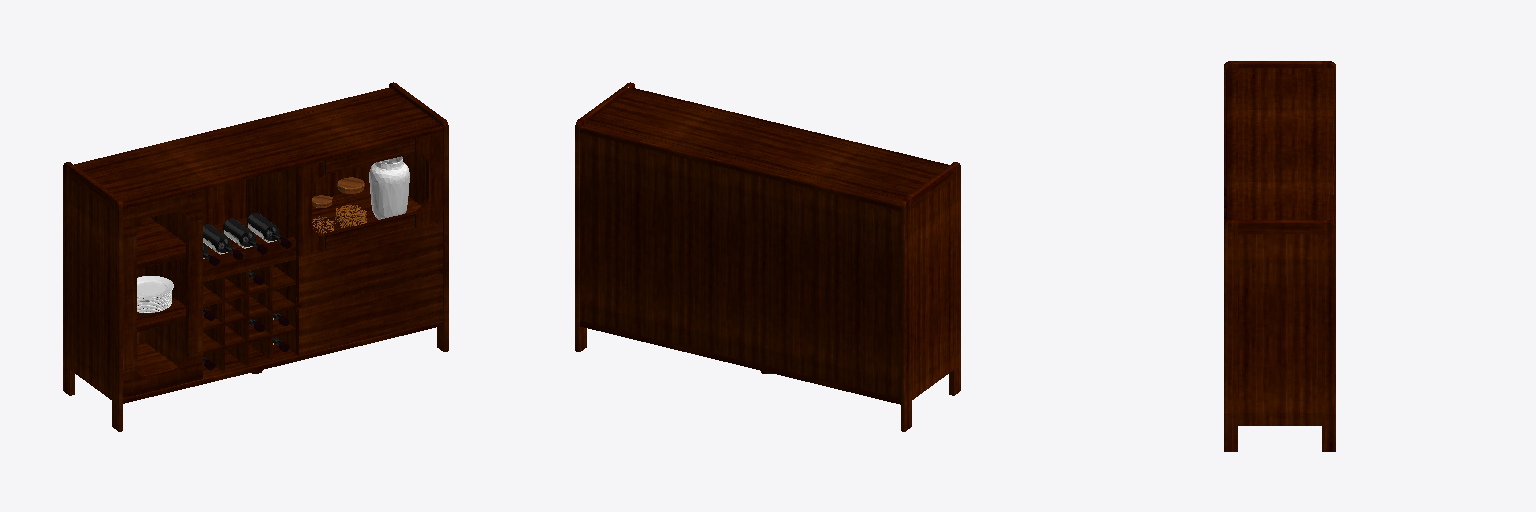
The picture shows the model from 3 angles: view 1: azimuth 30°, elevation 25°; view 2: azimuth 150°, elevation 25°; view 3: azimuth 270°, elevation 25°; orthographic projection.
Visible parts, largest first — view 1: solid_002, solid_001, glass_002, solid_010, solid_007, solid_008; view 2: solid_002; view 3: solid_002.
Part boxes in pixels (x1,y1,x2,y2): solid_002: (63,82,448,431); solid_001: (137,156,409,312); glass_002: (203,213,282,363); solid_010: (204,238,291,370); solid_007: (312,177,364,207); solid_008: (312,205,366,233); solid_002: (575,82,960,431); solid_002: (1224,61,1335,451).
Bounding box in the file's own units: 1.71 × 1.14 × 0.5079.
1 materials, 1 textured.